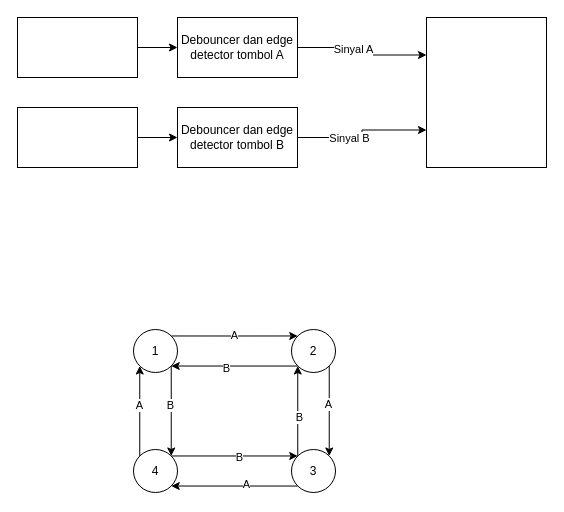
Image size: 564x512. Some labels were removed from this diagram. Each missing label, with the centre of its shape:
fsm Lampu geser: the point at 486,92
Tombol A: the point at 77,47
Tombol B: the point at 77,137
